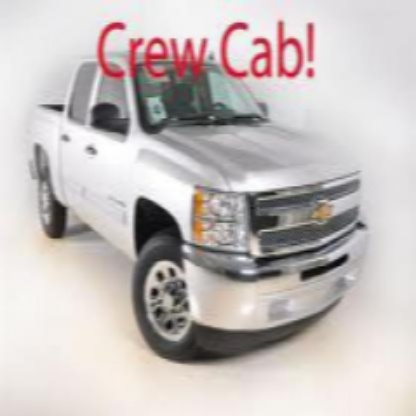Vehicle: (21, 52, 377, 371)
